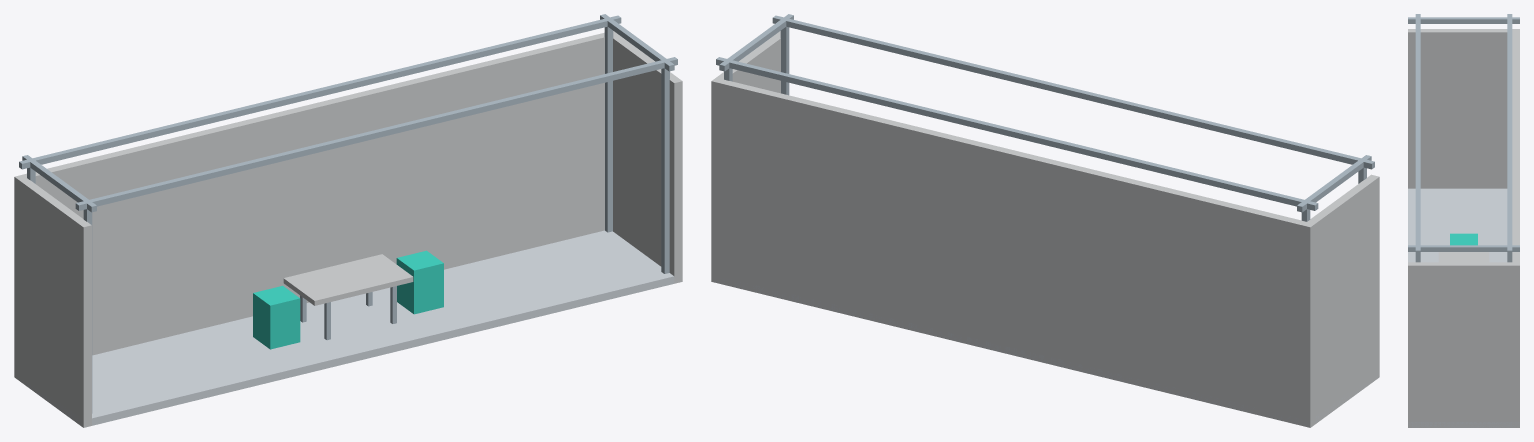
The picture shows the model from 3 angles, left to right: view 1: azimuth 30°, elevation 25°; view 2: azimuth 150°, elevation 25°; view 3: azimuth 270°, elevation 25°; orthographic projection. The views are drawn at different scales.
Parts seen in each view (by area): view 1: Exhibition Booth Concept; view 2: Exhibition Booth Concept; view 3: Exhibition Booth Concept.
Boxes of the visible parts, <box> form: Exhibition Booth Concept: <box>14,14,682,427</box>; Exhibition Booth Concept: <box>711,14,1379,427</box>; Exhibition Booth Concept: <box>1408,14,1519,427</box>.
Bounding box in the file's own units: 10 × 3.49 × 2.
